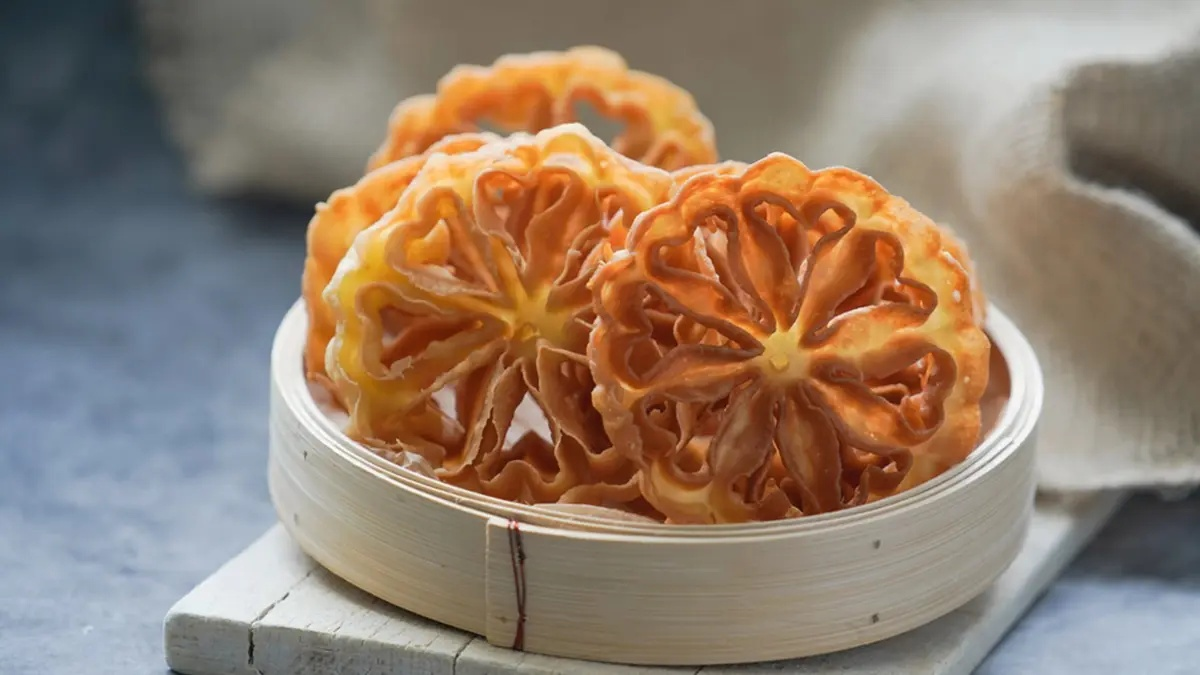kembang_goyang: (607, 149, 992, 536)
